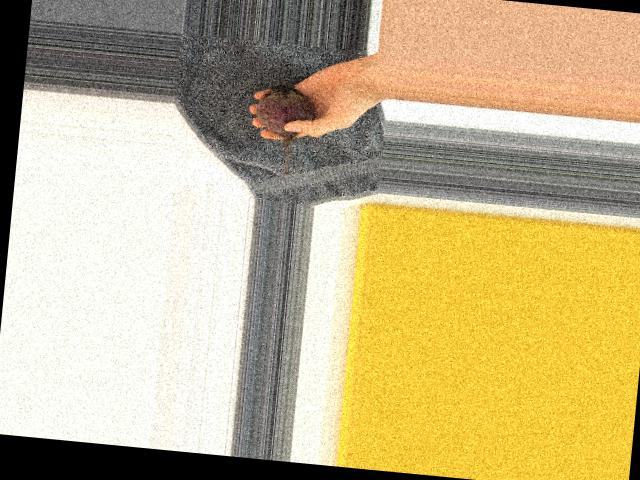beet: (249, 81, 316, 181)
